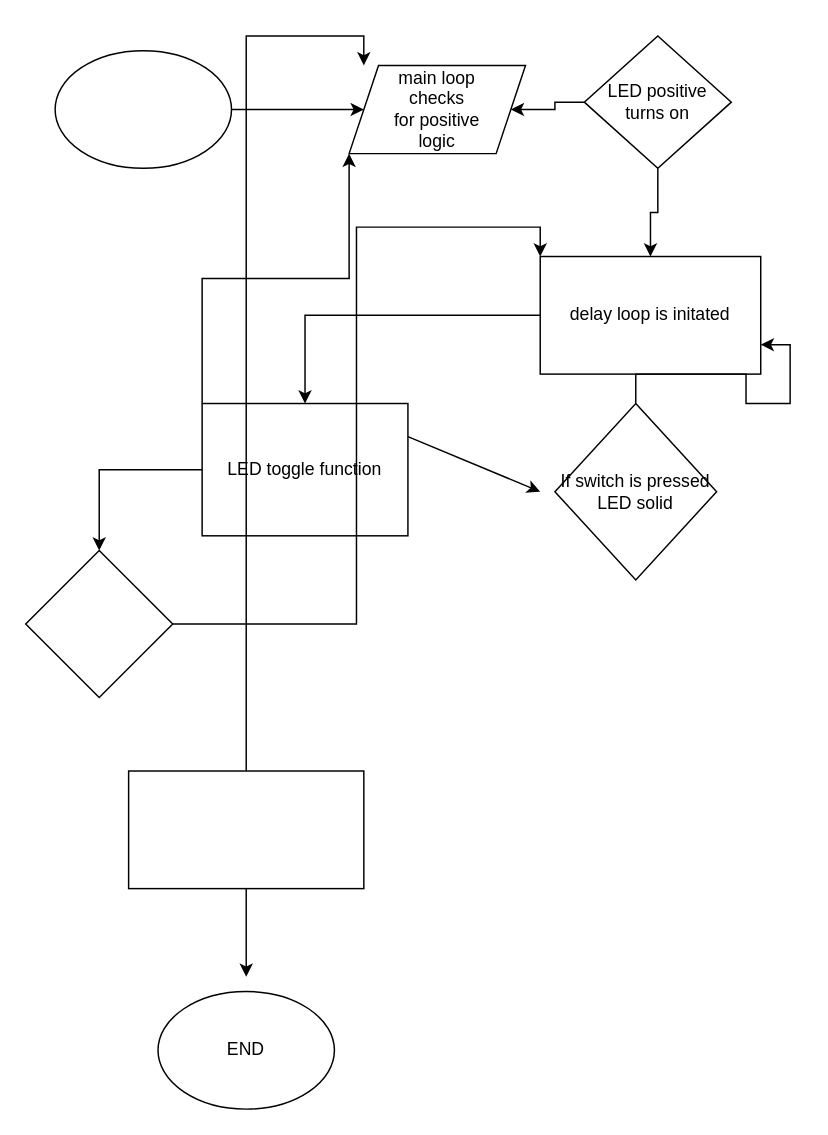
This 828x1135 diagram has some shape labels left out. Each missing label, with the centre of its shape:
If switch not pressed LED toggles: (98,623)
LED on: (245,829)
start: (143,108)
